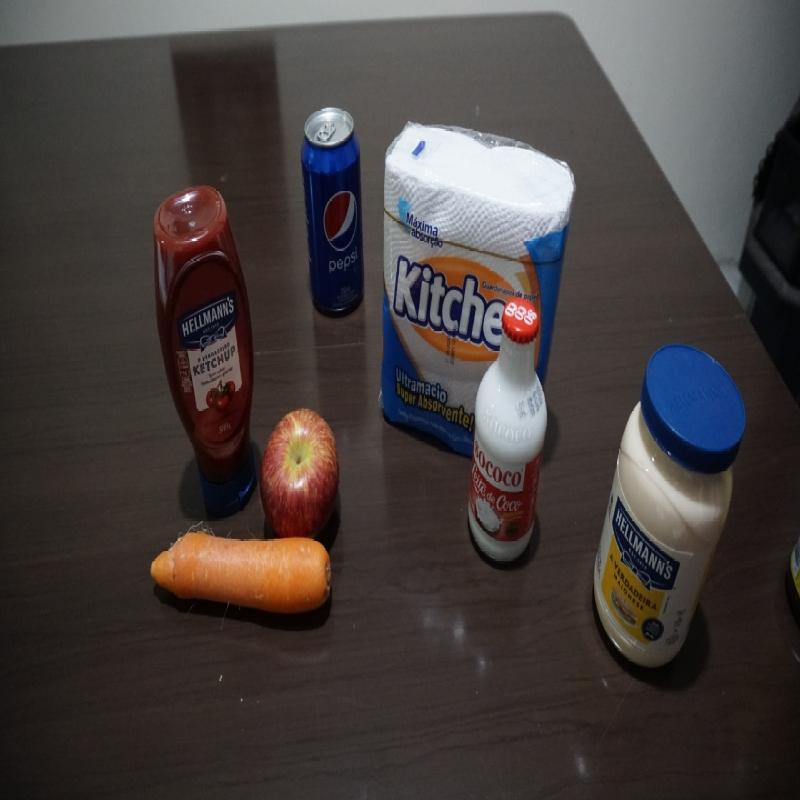Apple: (260, 402, 343, 538)
Carrot: (144, 527, 338, 622)
Coconut Milk: (465, 292, 550, 570)
Ketchup: (145, 180, 257, 522)
Mayonnaise: (590, 338, 748, 676)
Napkin: (377, 103, 580, 476)
Soda can: (299, 102, 367, 328)
